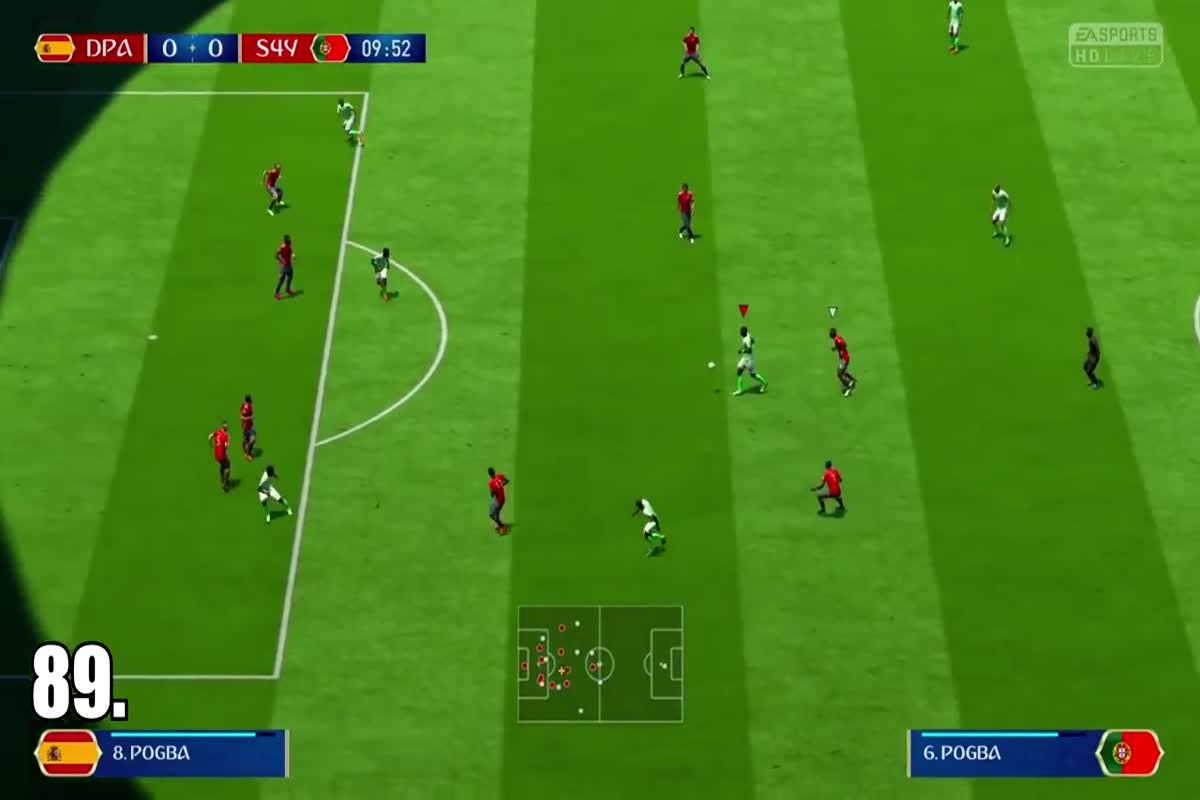ball: (698, 350, 726, 374)
